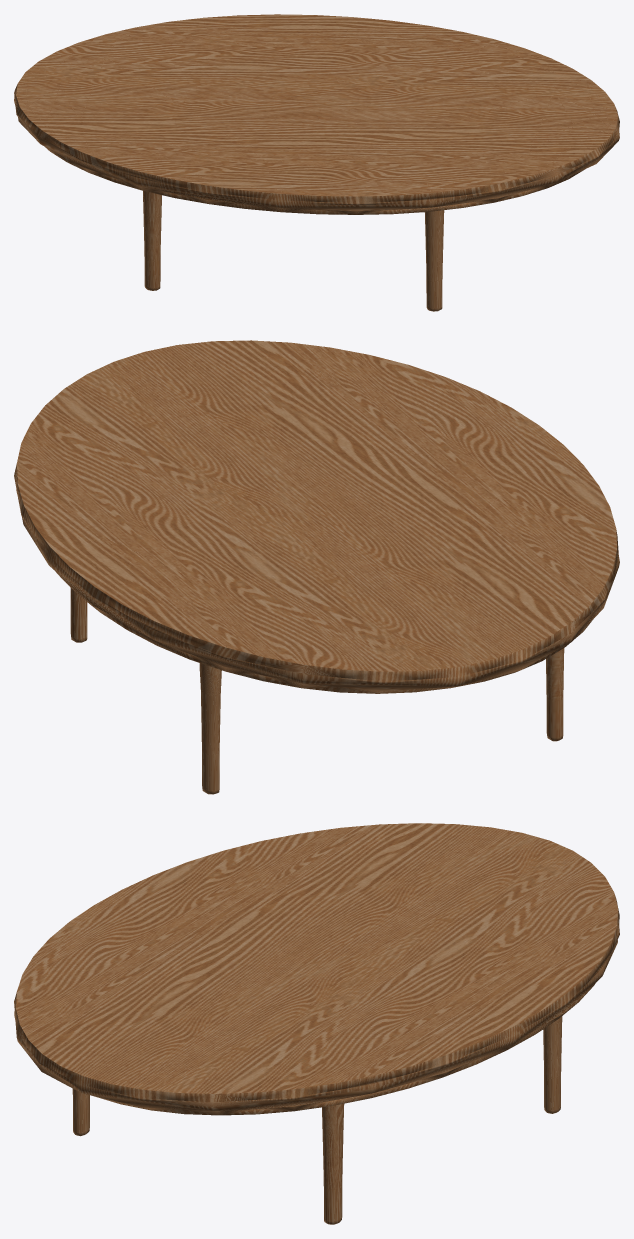
File: wood table.glb
3 renders of one model, top to bottom at view 1: azimuth 30°, elevation 25°; view 2: azimuth 150°, elevation 25°; view 3: azimuth 270°, elevation 25°, orthographic. The views are drawn at different scales.
Parts seen in each view (by area): view 1: Object_35.002; view 2: Object_35.002; view 3: Object_35.002.
Part boxes in pixels (bbox=[...]): Object_35.002: bbox=[14, 14, 619, 311]; Object_35.002: bbox=[14, 340, 619, 794]; Object_35.002: bbox=[14, 823, 619, 1224].
Bounding box in the file's own units: 10.36 × 2.9 × 9.7.
1 material, 1 textured.
